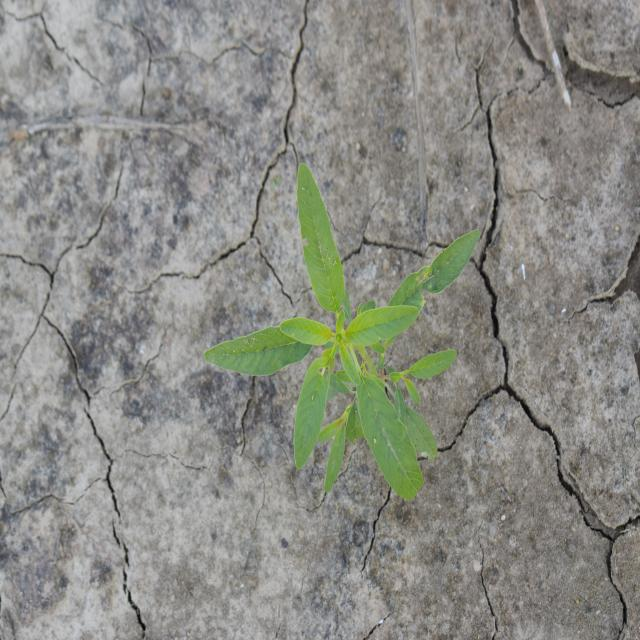Waterhemp: (203, 160, 482, 504)
